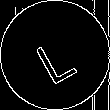L_NW: (29, 25, 81, 85)
